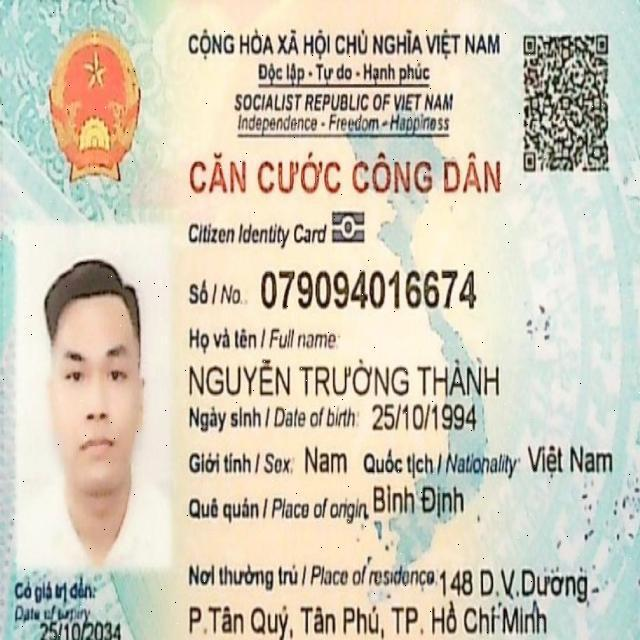current_place: (188, 597, 549, 640), (439, 566, 589, 605)
dob: (372, 401, 477, 433)
expire_date: (39, 620, 123, 640)
gender: (303, 442, 348, 475)
id: (259, 269, 479, 309)
name: (188, 357, 502, 398)
nationality: (526, 440, 613, 480)
origin_place: (371, 483, 465, 516)
